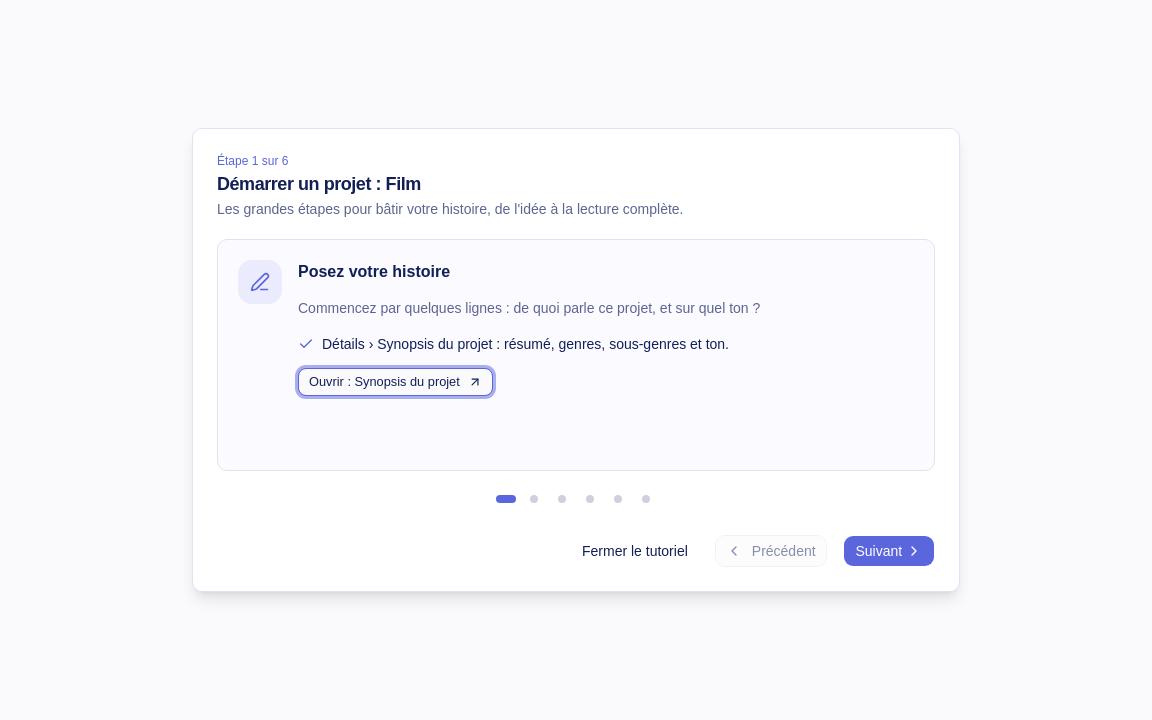
Test: TutorialDialog › nomme le découpage et le type du projet
Expected: the dialog "Démarrer un projet : Film" is shown, [192,128,960,592]
Click the tab named "Découpez le récit": point(590, 499) [578,487,602,511]
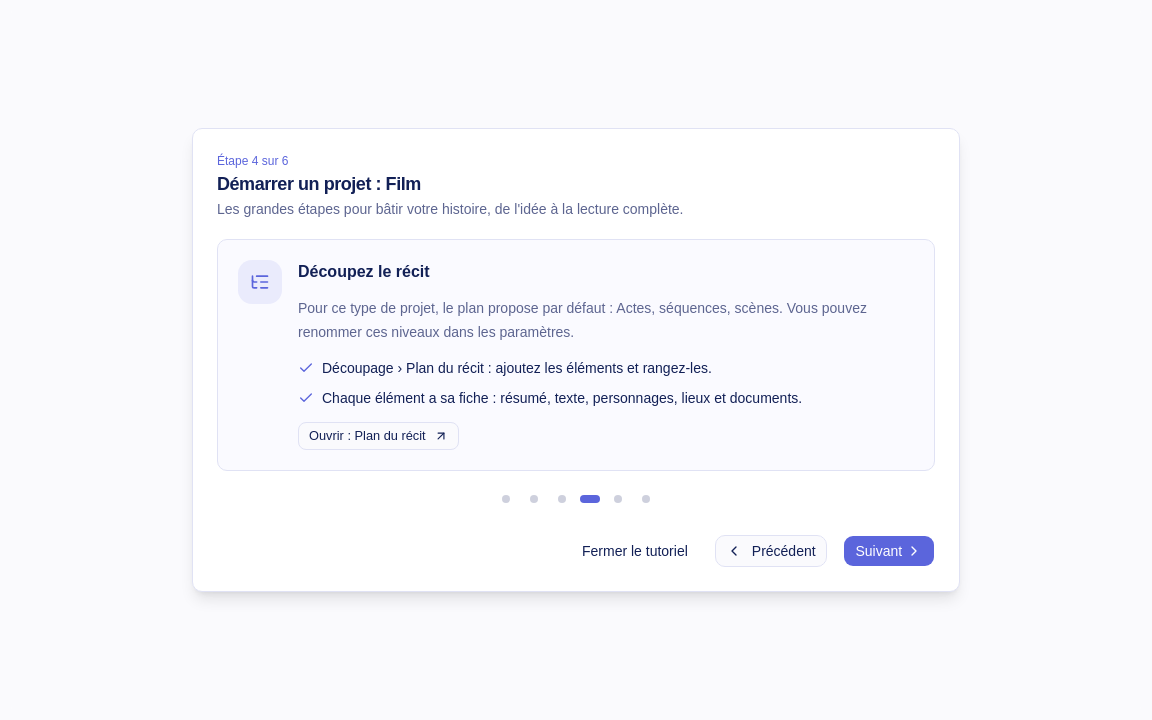
Now the text "par défaut : Actes, séquences, scènes." is shown, box [298,300,867,340]
